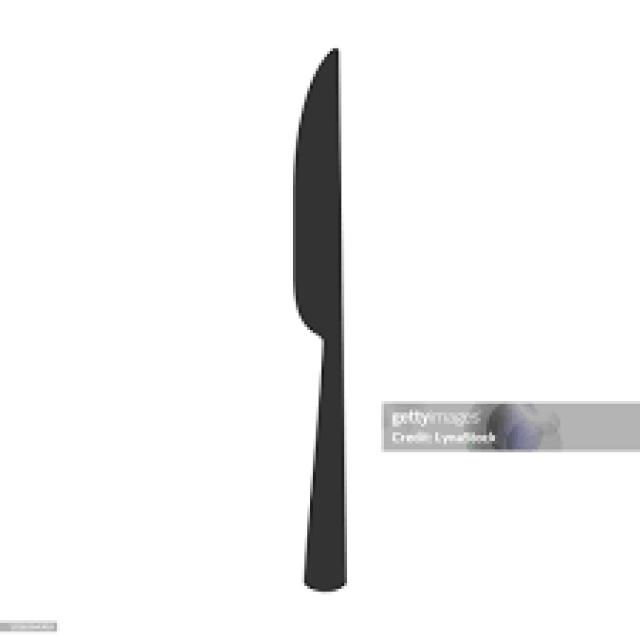Knife: (290, 45, 344, 589)
